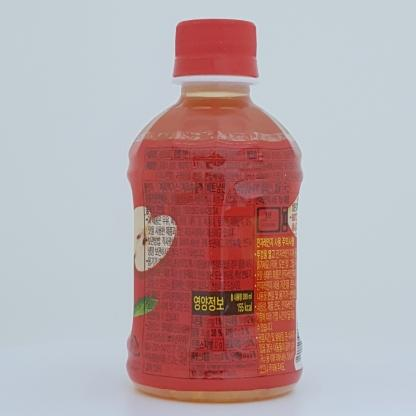----------280ML: (126, 19, 303, 403)
